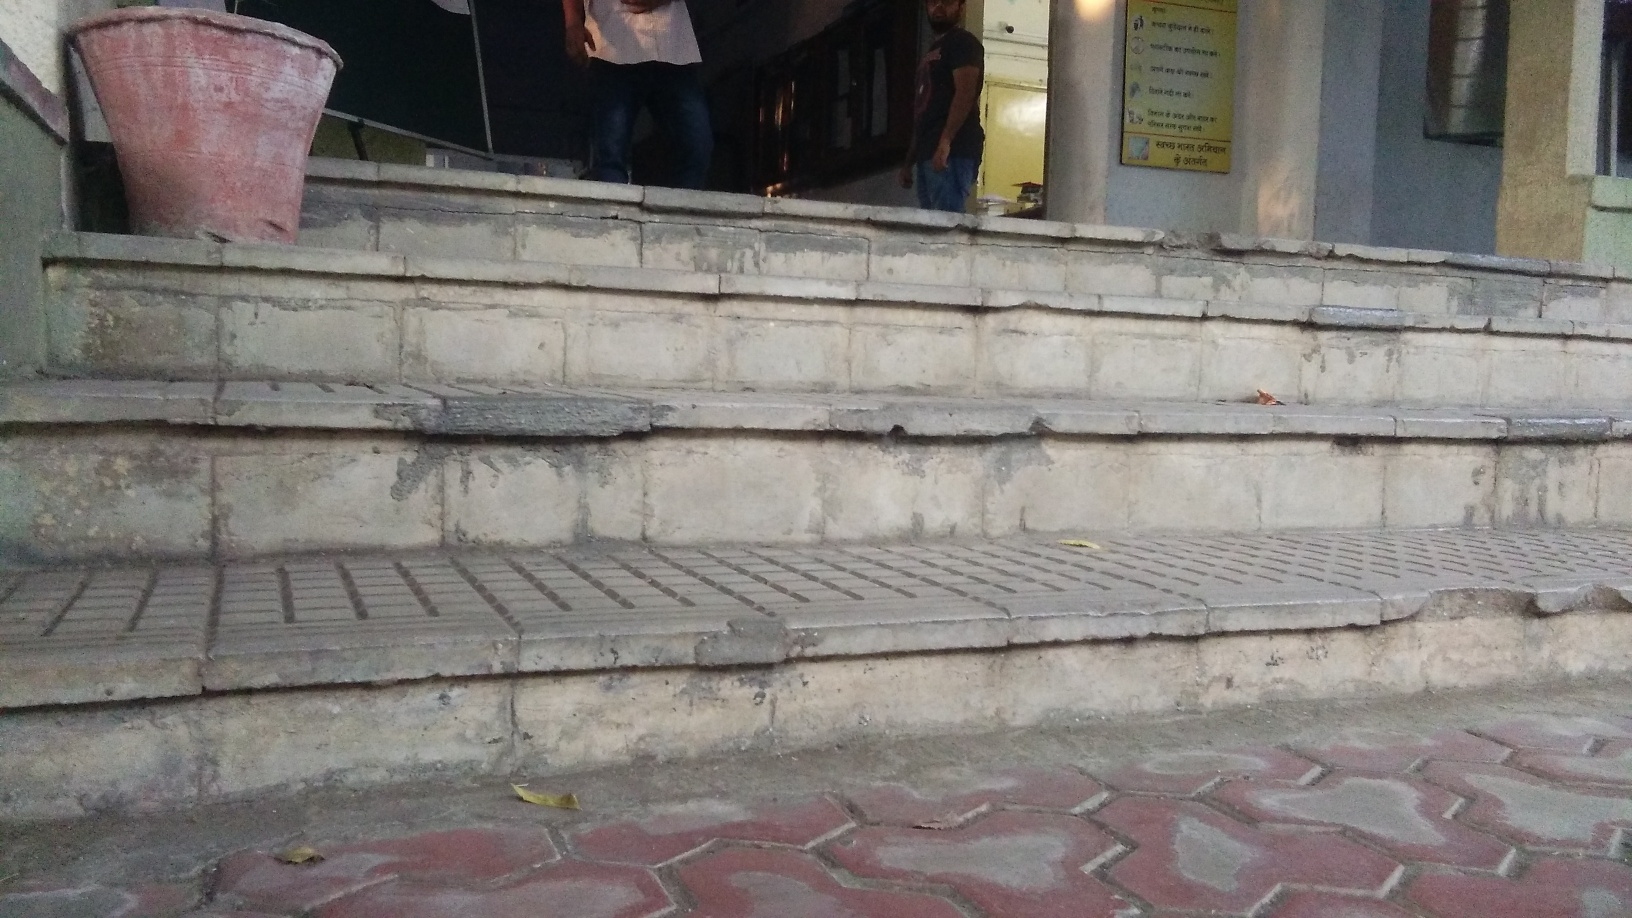stairs_up: (39, 143, 1592, 701)
